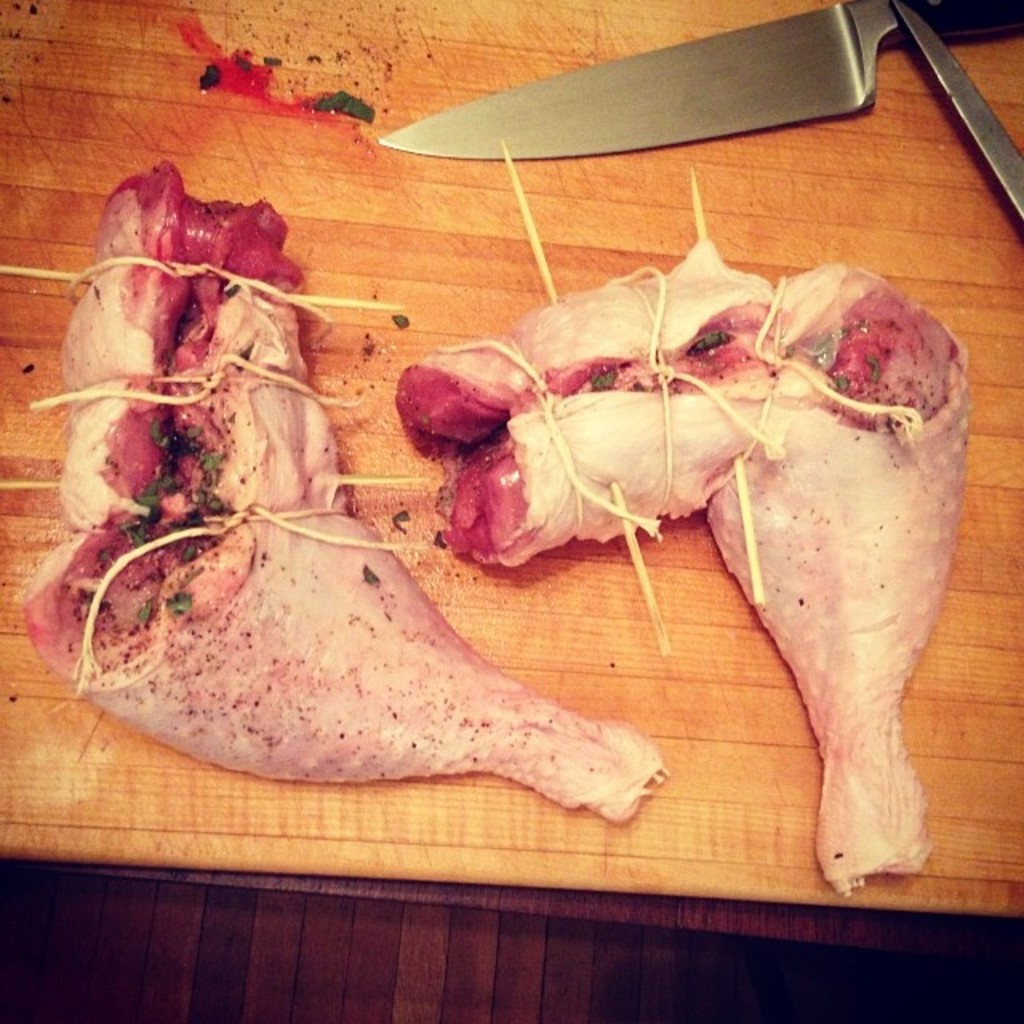knife: (377, 0, 1023, 159)
